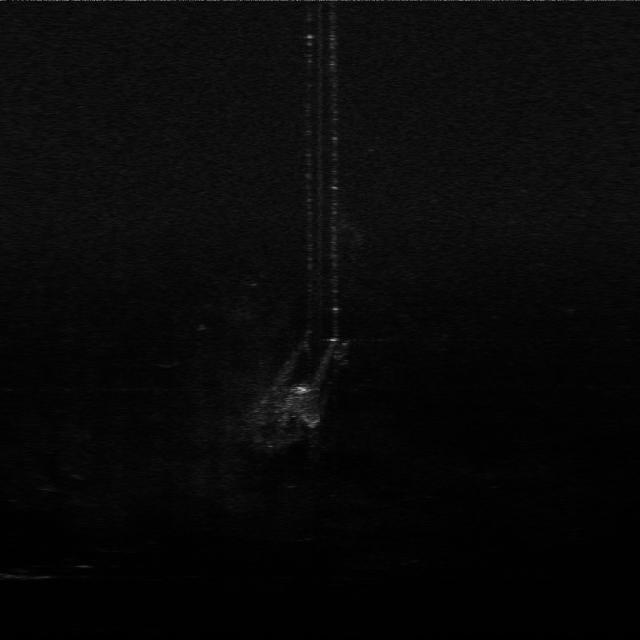rov: (290, 381, 314, 398)
